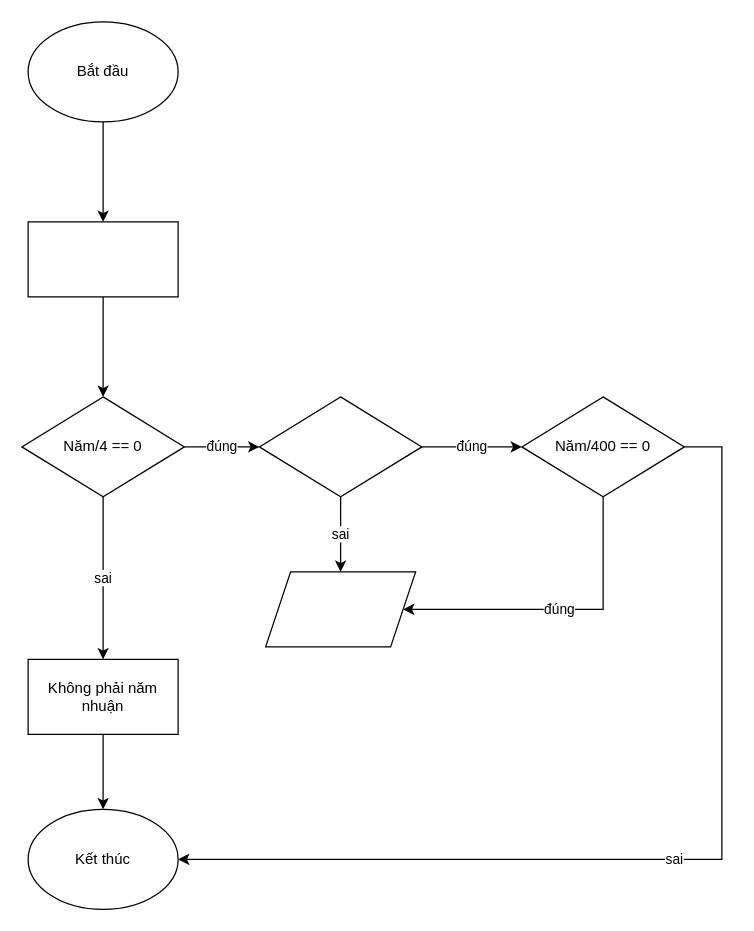
This 754x931 diagram has some shape labels left out. Each missing label, with the box of its shape:
Năm: (27, 221, 178, 297)
Năm nhuận: (264, 571, 416, 647)
Năm/100 == 0: (258, 396, 422, 497)
